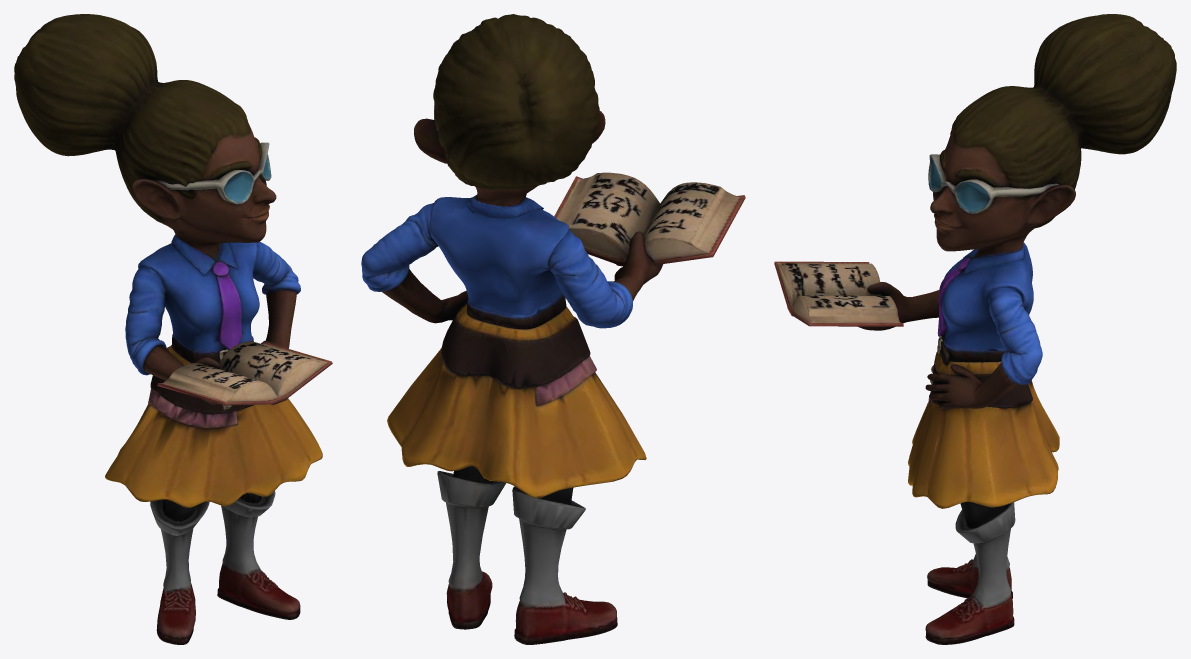
The model's file is MZ4250 - Gnome Female Accountant Wizard.glb.
The picture shows the model from 3 angles, left to right: view 1: azimuth 30°, elevation 25°; view 2: azimuth 150°, elevation 25°; view 3: azimuth 270°, elevation 25°; orthographic projection. The views are drawn at different scales.
Visible parts, largest first — view 1: Gnome Female Accountant Wizard.001; view 2: Gnome Female Accountant Wizard.001; view 3: Gnome Female Accountant Wizard.001.
Part boxes in pixels (<box>): Gnome Female Accountant Wizard.001: <box>14,14,332,644</box>; Gnome Female Accountant Wizard.001: <box>361,14,745,644</box>; Gnome Female Accountant Wizard.001: <box>774,14,1176,644</box>.
Size of the model in its own units: 9.76 by 23.12 by 15.01.
1 material, 1 textured.
